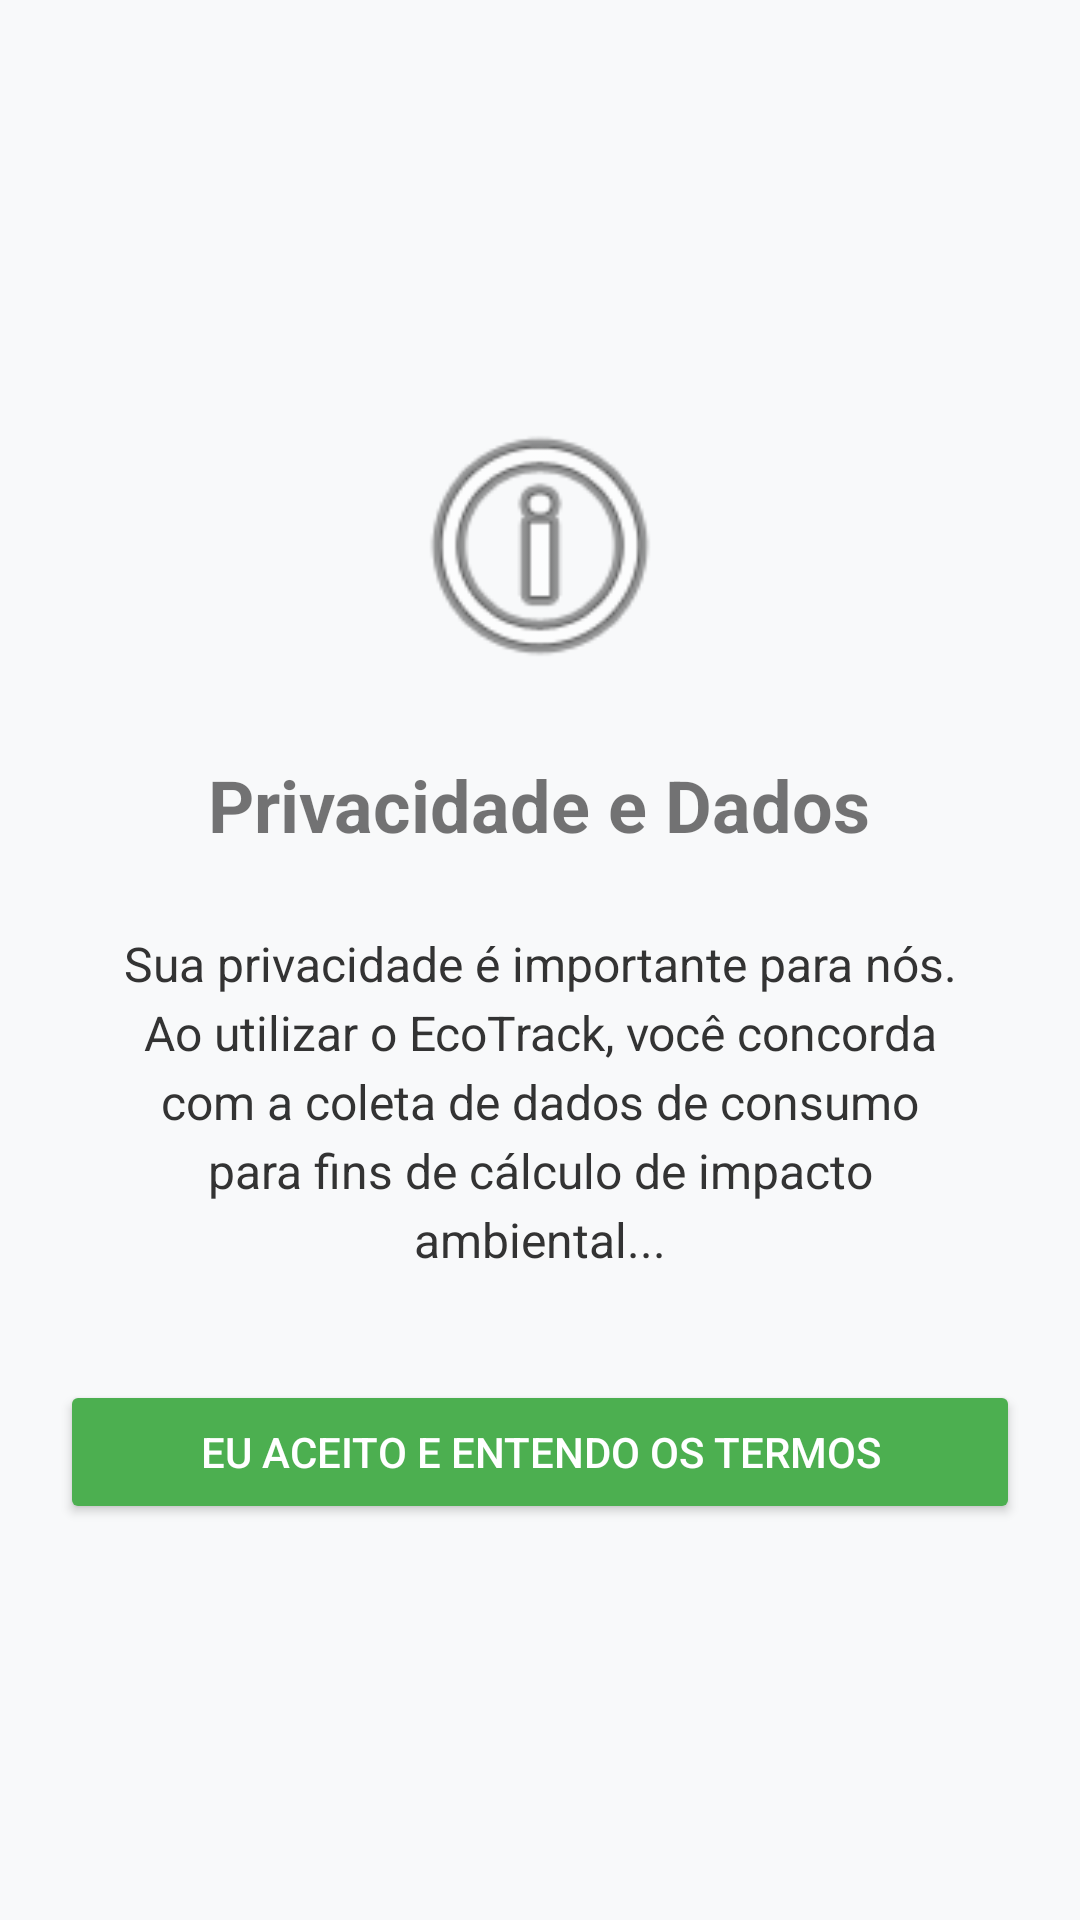

Screen size 1080×1920. Icon name, then its center in pixels as (x,y):
info details: (540,546)
